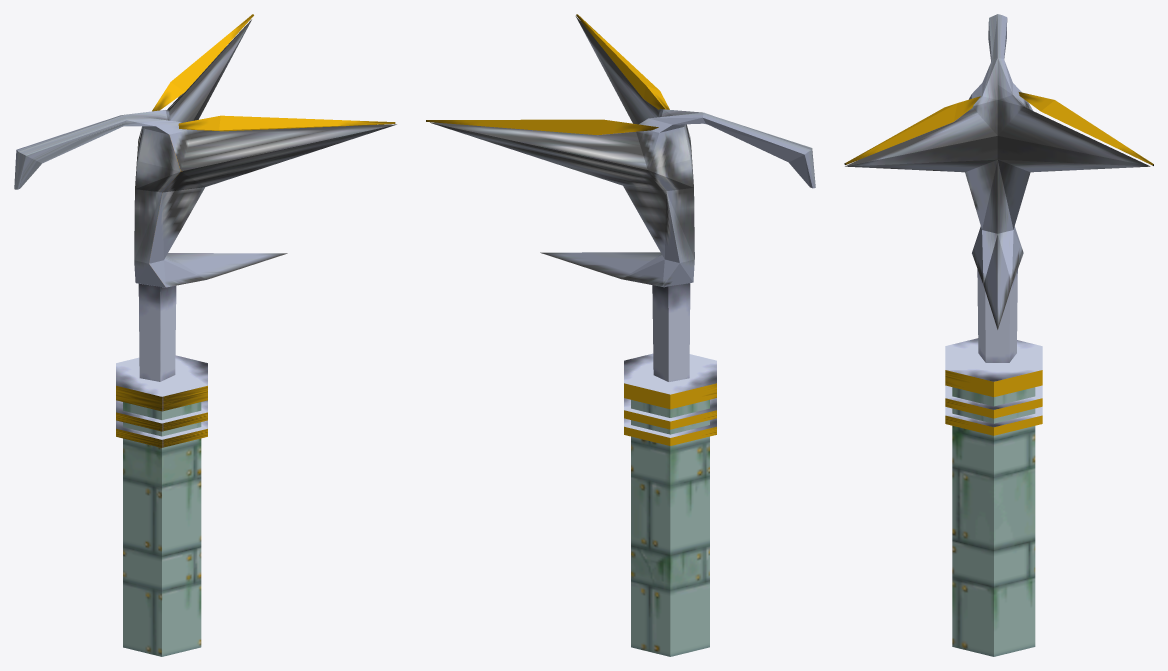
File: Statue_AdlerSpitz_1979.glb
3 views of the same model, side by side, from view 1: azimuth 30°, elevation 25°; view 2: azimuth 150°, elevation 25°; view 3: azimuth 270°, elevation 25° (orthographic). The views are drawn at different scales.
Visible parts, largest first — view 1: pSphereShape10, pCylinderShape10, pCylinderShape11, pCylinderShape35, pCylinderShape33, pCylinderShape34, pCylinderShape12, pCylinderShape13; view 2: pSphereShape10, pCylinderShape10, pCylinderShape11, pCylinderShape35, pCylinderShape34, pCylinderShape33, pCylinderShape12, pCylinderShape13; view 3: pCylinderShape10, pSphereShape10, pCylinderShape11, pCylinderShape35, pCylinderShape33, pCylinderShape34, pCylinderShape12, pCylinderShape13.
Part boxes in pixels (<box>): pSphereShape10: <box>14,19,396,287</box>; pCylinderShape10: <box>123,402,201,656</box>; pCylinderShape11: <box>116,355,207,411</box>; pCylinderShape35: <box>138,283,176,381</box>; pCylinderShape33: <box>178,115,395,131</box>; pCylinderShape34: <box>152,14,253,111</box>; pCylinderShape12: <box>116,400,207,431</box>; pCylinderShape13: <box>116,420,207,447</box>; pSphereShape10: <box>430,16,815,287</box>; pCylinderShape10: <box>631,400,709,656</box>; pCylinderShape11: <box>624,353,716,409</box>; pCylinderShape35: <box>652,283,690,381</box>; pCylinderShape34: <box>426,119,658,135</box>; pCylinderShape33: <box>576,14,669,109</box>; pCylinderShape12: <box>624,398,716,429</box>; pCylinderShape13: <box>624,418,716,445</box>; pCylinderShape10: <box>952,387,1035,656</box>; pSphereShape10: <box>845,14,1150,329</box>; pCylinderShape11: <box>945,338,1042,397</box>; pCylinderShape35: <box>977,269,1017,362</box>; pCylinderShape33: <box>844,96,980,164</box>; pCylinderShape34: <box>1018,92,1153,165</box>; pCylinderShape12: <box>945,385,1042,418</box>; pCylinderShape13: <box>945,406,1042,435</box>.
Size of the model in its own units: 0.7477 by 1.21 by 0.6054.
8 materials, 8 textured.
